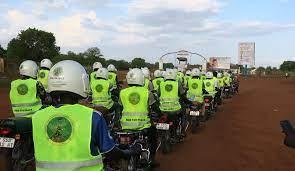Vest: (119, 87, 149, 129), (8, 77, 40, 113), (158, 79, 179, 110)
